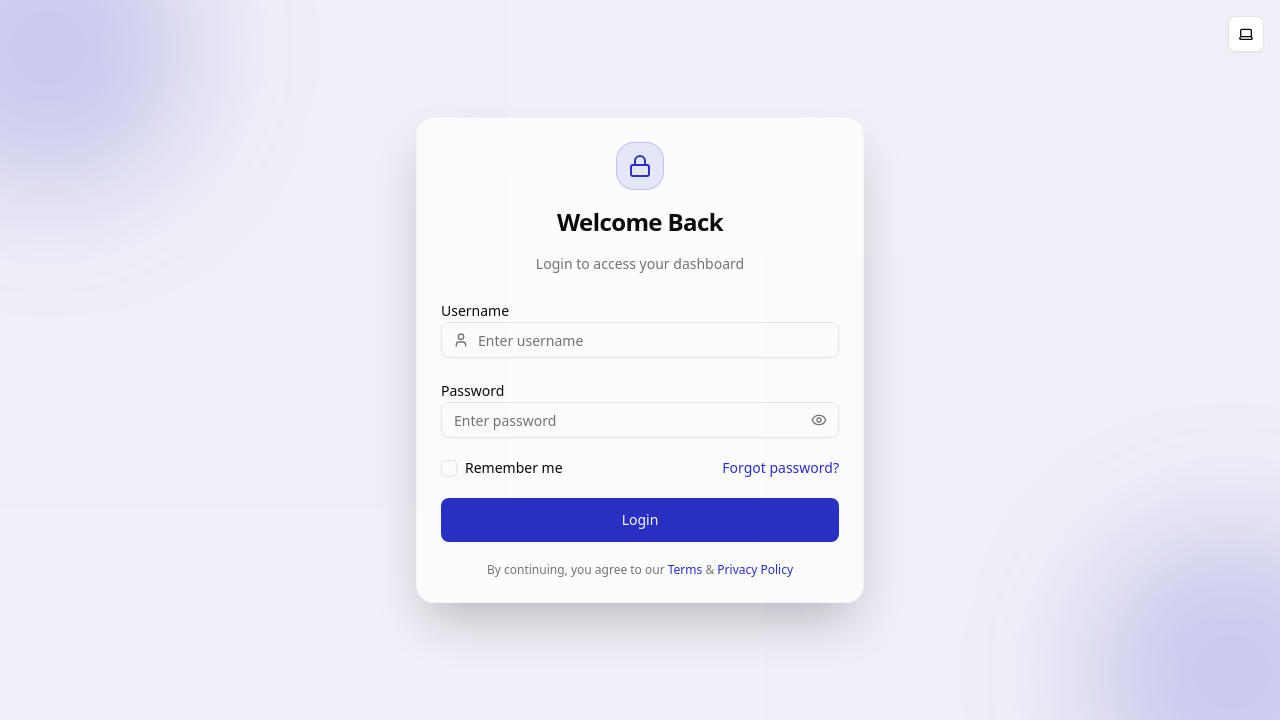
Test: LoginPage Component › should show validation error if username is less than 3 characters
Type "ab" into the field with placeholder "Enter username" at (640, 340), box [441, 322, 839, 358]
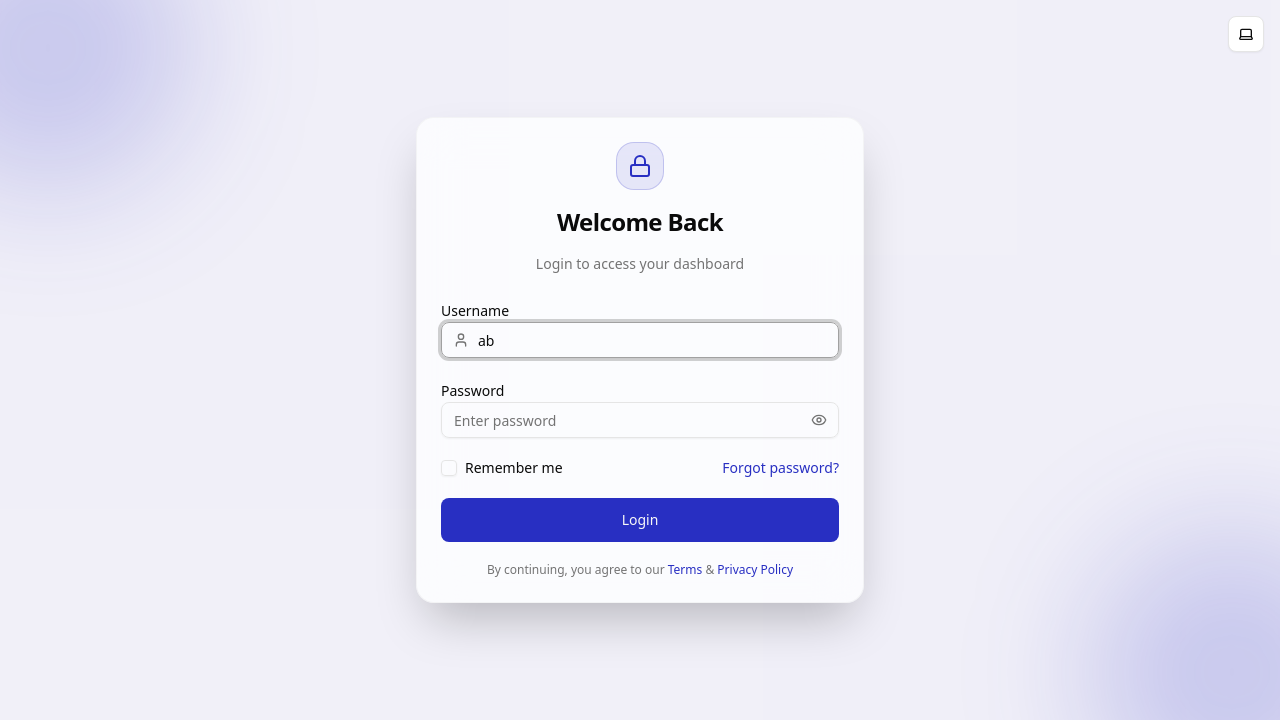
Type "123456" into the password field with placeholder "Enter password" at (640, 420), box [441, 402, 839, 438]
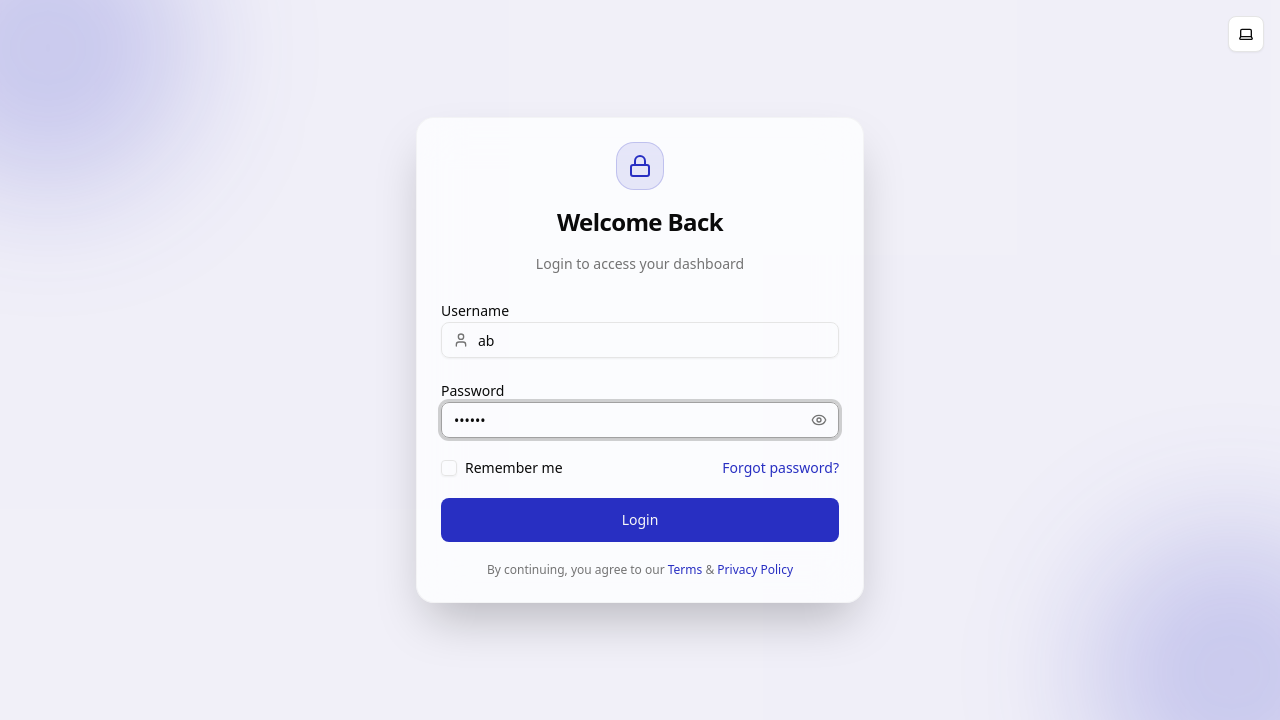
Click the button "Login" at (640, 520), box [441, 498, 839, 542]
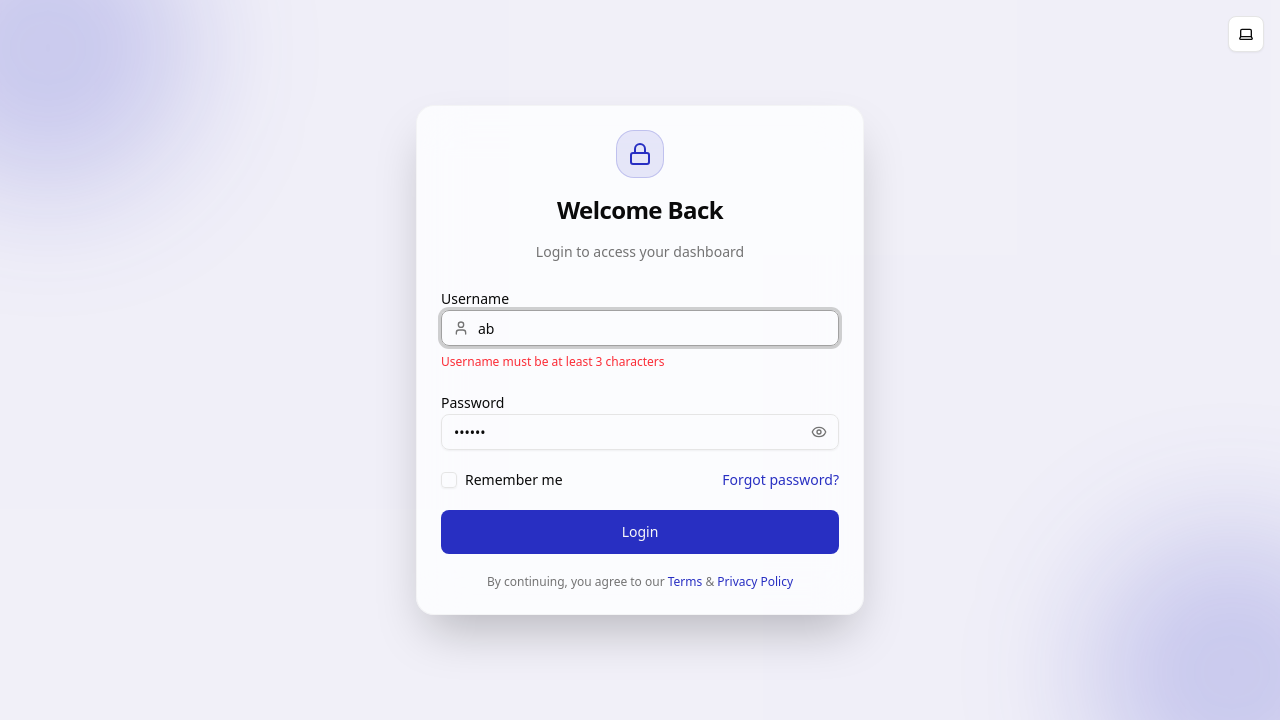
Expected: the text "Username must be at least 3 characters" is shown, [441, 353, 664, 370]
